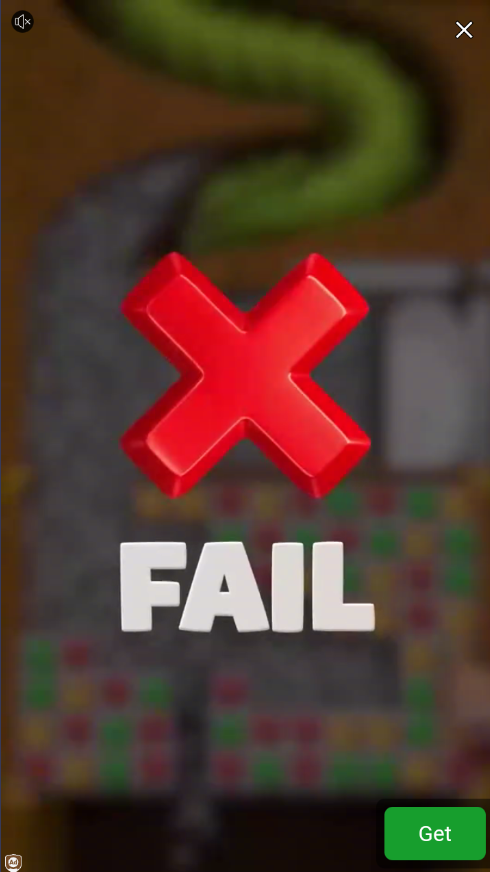close_button: (455, 19, 472, 41)
